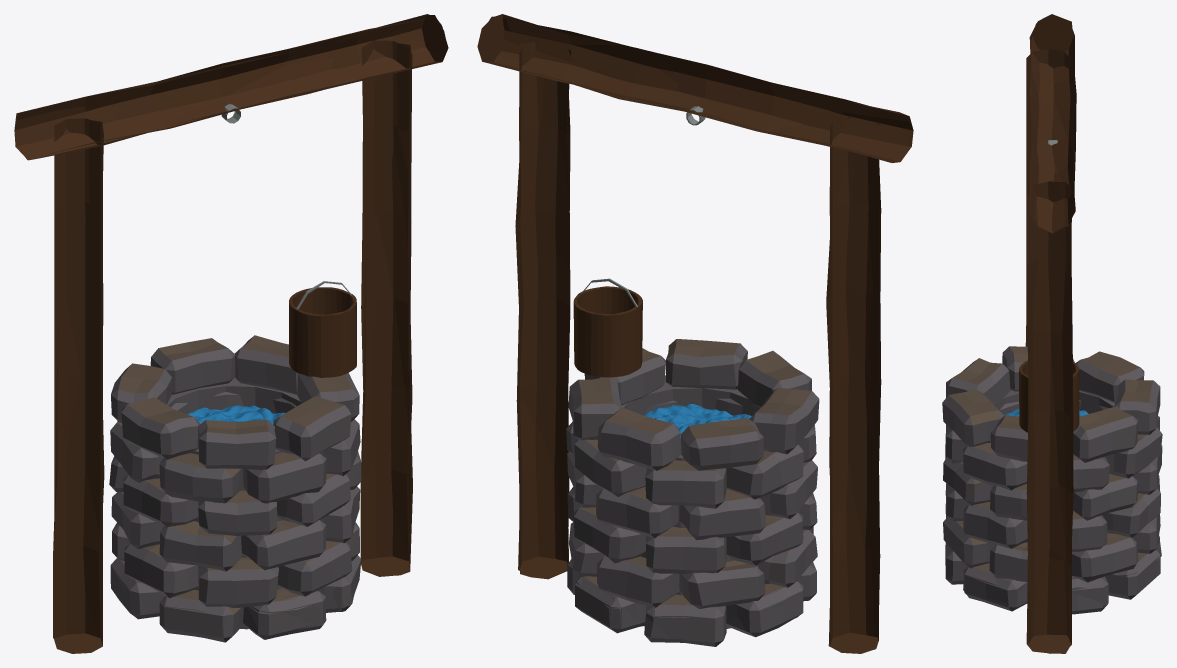
Rendered from pozo.fbx.
3 views of the same model, side by side, from view 1: azimuth 30°, elevation 25°; view 2: azimuth 150°, elevation 25°; view 3: azimuth 270°, elevation 25° (orthographic). The views are drawn at different scales.
Parts seen in each view (by area): view 1: Cylinder.001, Cylinder.002, Cube.006, Cylinder.003, Cube.005, Cube.002, Cube.003, Cube.004, Cylinder.004, Cube.001, Cube, Cylinder (+1 smaller); view 2: Cylinder.001, Cylinder.002, Cylinder.003, Cube.006, Cube.005, Cube.002, Cube.003, Cube.004, Cube.001, Cylinder.004, Cube, Cylinder (+1 smaller); view 3: Cylinder.001, Cube.006, Cylinder.003, Cube.005, Cube.002, Cube.003, Cube.004, Cube, Cube.001, Cylinder.002, Cylinder.004, Cylinder.
Part boxes in pixels (x1,y1,x2,y2): Cylinder.001: (360, 40, 412, 576); Cylinder.002: (53, 118, 104, 653); Cube.006: (111, 335, 359, 469); Cylinder.003: (14, 14, 448, 160); Cube.005: (110, 377, 360, 503); Cube.002: (112, 522, 359, 607); Cube.003: (111, 486, 360, 571); Cube.004: (109, 451, 361, 535); Cylinder.004: (289, 287, 356, 377); Cube.001: (110, 555, 361, 642); Cube: (112, 562, 359, 639); Cylinder: (167, 380, 301, 629); Cylinder.001: (515, 41, 570, 579); Cylinder.002: (826, 116, 881, 653); Cylinder.003: (477, 14, 913, 162); Cube.006: (568, 339, 819, 470); Cube.005: (566, 375, 816, 508); Cube.002: (569, 522, 817, 608); Cube.003: (568, 487, 817, 573); Cube.004: (567, 452, 817, 540); Cube.001: (567, 562, 816, 646); Cylinder.004: (573, 286, 642, 377); Cube: (567, 559, 816, 642); Cylinder: (621, 383, 759, 628); Cylinder.001: (1026, 181, 1073, 653); Cube.006: (942, 346, 1160, 462); Cylinder.003: (1029, 14, 1076, 233); Cube.005: (945, 400, 1162, 492); Cube.002: (943, 504, 1160, 582); Cube.003: (945, 475, 1160, 551); Cube.004: (943, 445, 1162, 520); Cube: (946, 536, 1160, 611); Cube.001: (945, 535, 1161, 614); Cylinder.002: (1025, 48, 1071, 346); Cylinder.004: (1019, 360, 1079, 432); Cylinder: (995, 390, 1114, 542).
Bounding box in the file's own units: 48.82 × 61.59 × 25.59.
